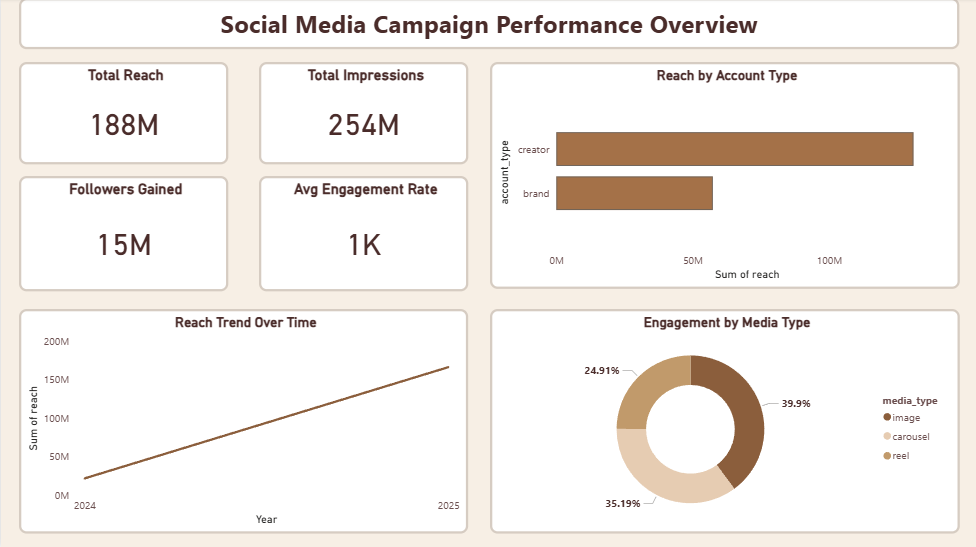

What the dashboard file says about the page in this screenshot:
{"tool":"powerbi","page":{"name":"Page 1","canvas":[1280,720],"ordinal":0},"visuals":[{"type":"textbox","box":[23.5,0,1231.3,67.2],"z":0},{"type":"card","title":"Total Reach","fields":{"Values":["Sum(Instagram_Analytics.reach)"]},"box":[23.5,84,273.8,134.4],"z":1000},{"type":"card","title":"Avg Engagement Rate","fields":{"Values":["Sum(Instagram_Analytics.engagement_rate)"]},"box":[337.6,233.5,273.8,151.2],"z":2000},{"type":"card","title":"Followers Gained","fields":{"Values":["Sum(Instagram_Analytics.followers_gained)"]},"box":[23.5,233.5,273.8,151.2],"z":3000},{"type":"card","title":"Total Impressions","fields":{"Values":["Sum(Instagram_Analytics.impressions)"]},"box":[337.6,84,273.8,134.4],"z":4000},{"type":"lineChart","title":"Reach Trend Over Time","fields":{"Category":["Instagram_Analytics.post_date.Variation.Date Hierarchy.Year","Instagram_Analytics.post_date.Variation.Date Hierarchy.Quarter","Instagram_Analytics.post_date.Variation.Date Hierarchy.Month","Instagram_Analytics.post_date.Variation.Date Hierarchy.Day"],"Y":["Sum(Instagram_Analytics.reach)"]},"box":[23.5,406.5,587.9,294],"z":5000},{"type":"clusteredBarChart","title":"Reach by Account Type","fields":{"Y":["Sum(Instagram_Analytics.reach)"],"Category":["Instagram_Analytics.account_type"]},"box":[640,84,614.8,297.3],"z":6000},{"type":"donutChart","title":"Engagement by Media Type","fields":{"Category":["Instagram_Analytics.media_type"],"Y":["Sum(Instagram_Analytics.engagement_rate)"]},"box":[640,406.5,614.8,294],"z":7000}]}

Visuals, with their boxes in screenshot pixels (x1, y1, x2, y2), scaled from the page's 1280x720 canvas onto the 976x547 screenshot:
textbox: <box>18,0,957,51</box>
"Total Reach" card: <box>18,64,227,166</box>
"Avg Engagement Rate" card: <box>257,177,466,292</box>
"Followers Gained" card: <box>18,177,227,292</box>
"Total Impressions" card: <box>257,64,466,166</box>
"Reach Trend Over Time" lineChart: <box>18,309,466,532</box>
"Reach by Account Type" clusteredBarChart: <box>488,64,957,290</box>
"Engagement by Media Type" donutChart: <box>488,309,957,532</box>
